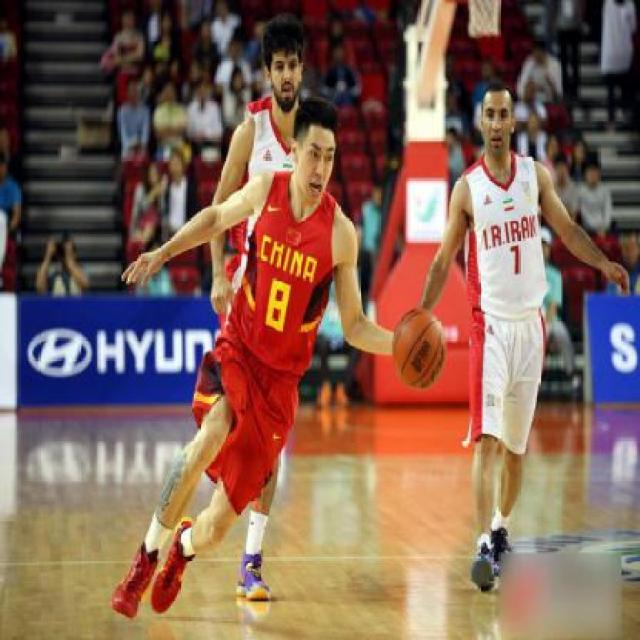Person: (423, 73, 620, 618)
